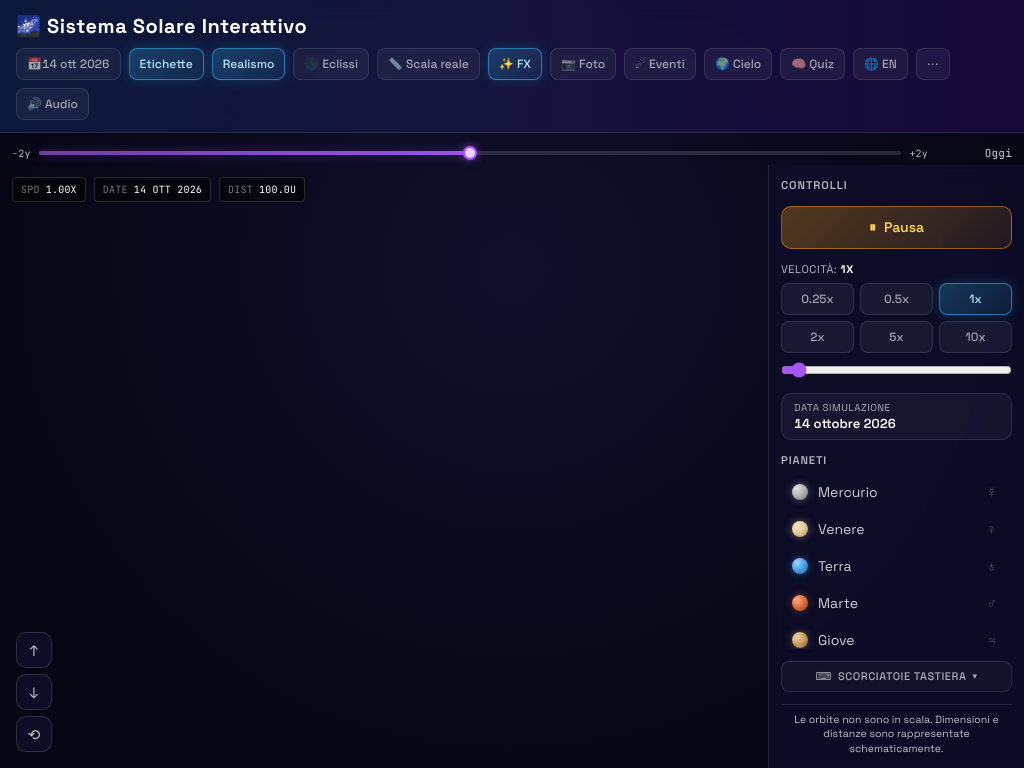
Scenario: App — interazioni › chiude il pannello con il pulsante ✕
The image size is (1024, 768).
Click the button "Giove ♃" at {"x": 894, "y": 640}, box [781, 623, 1008, 658]
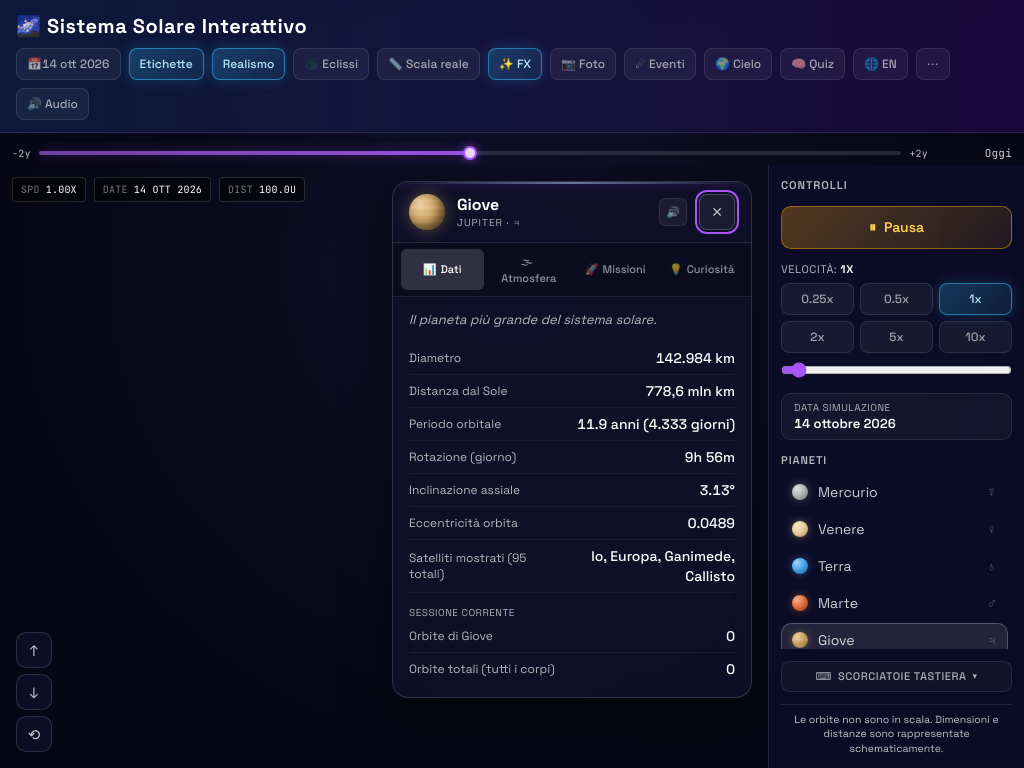
Click the button named "Chiudi pannello" at {"x": 717, "y": 212}, box [699, 194, 735, 230]
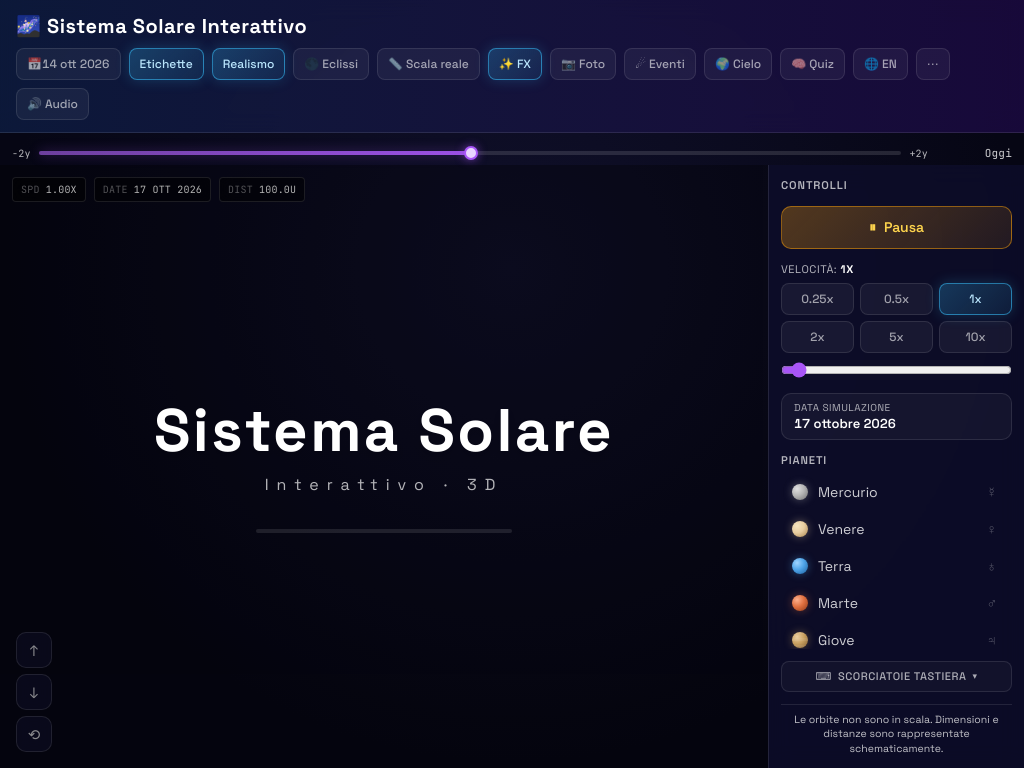
expect the dialog is gone: met
